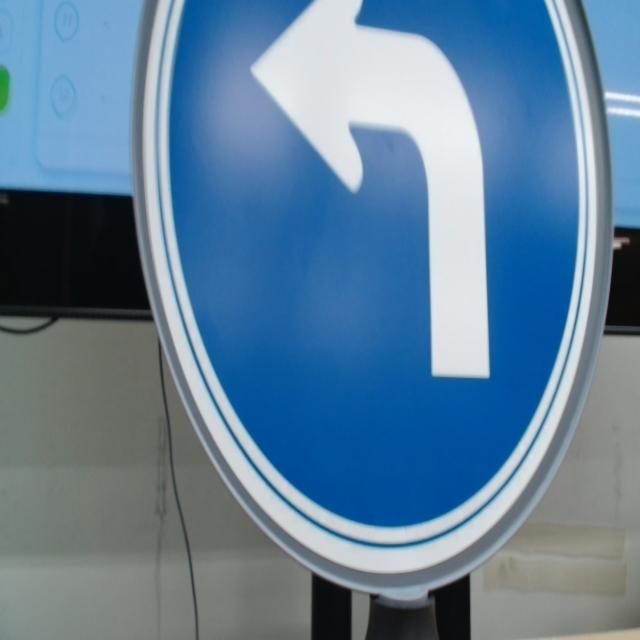left_direction: (121, 0, 617, 605)
